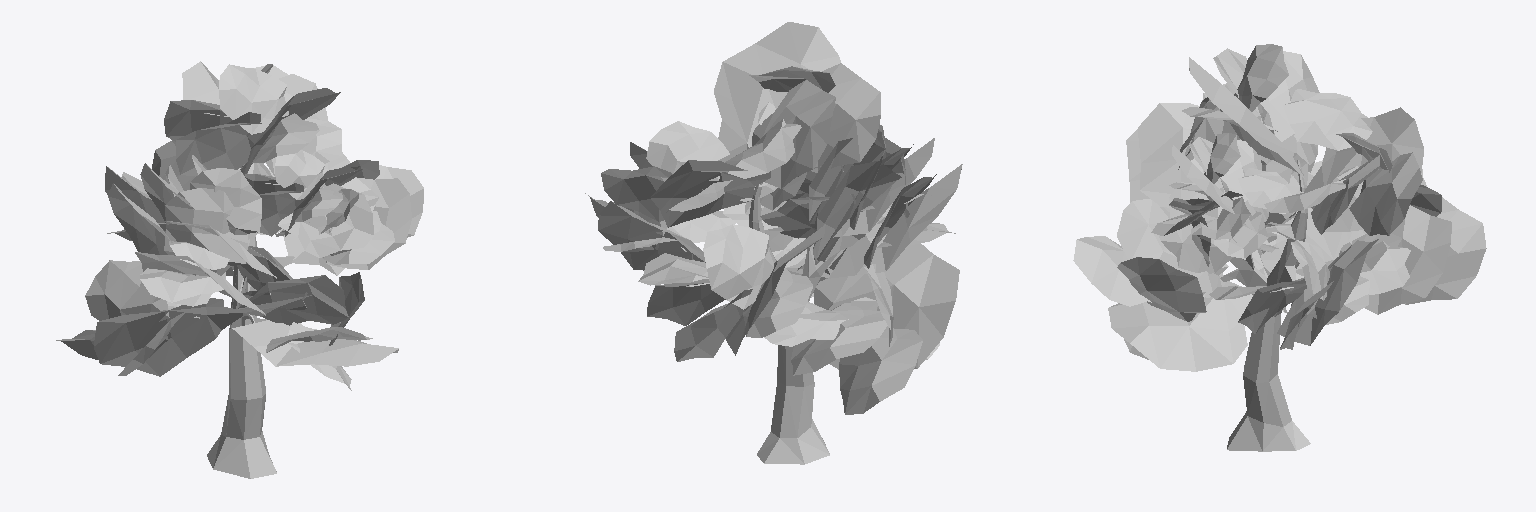
File: Tree1.obj
3 renders of one model, left to right at view 1: azimuth 30°, elevation 25°; view 2: azimuth 150°, elevation 25°; view 3: azimuth 270°, elevation 25°, orthographic.
Parts seen in each view (by area): view 1: Plane.001; view 2: Plane.001; view 3: Plane.001.
Boxes of the visible parts, x1,y1,x2,y2 form: Plane.001: [56, 61, 423, 478]; Plane.001: [585, 22, 962, 464]; Plane.001: [1073, 44, 1486, 451].
Bounding box in the file's own units: 15.52 × 16.83 × 16.